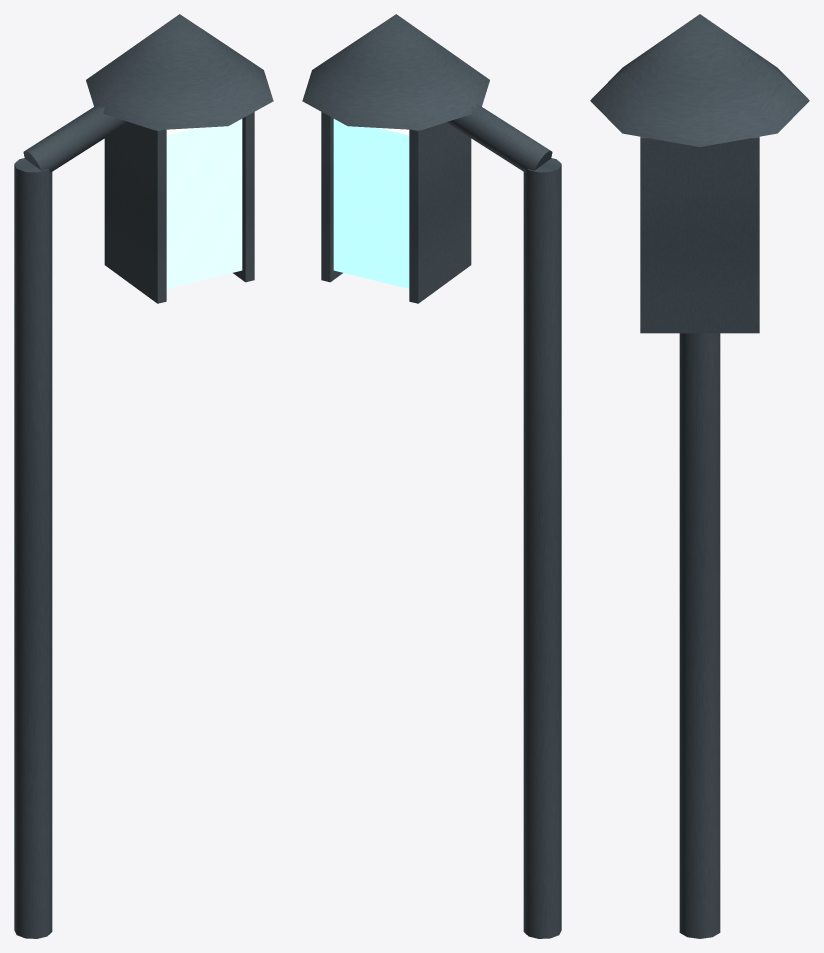
The model's file is lamp.glb.
3 renders of one model, left to right at view 1: azimuth 30°, elevation 25°; view 2: azimuth 150°, elevation 25°; view 3: azimuth 270°, elevation 25°, orthographic. The views are drawn at different scales.
Visible parts, largest first — view 1: lamp; view 2: lamp; view 3: lamp.
Part boxes in pixels (<box>): lamp: <box>14,14,273,938</box>; lamp: <box>302,14,561,938</box>; lamp: <box>590,14,809,938</box>.
Size of the model in its own units: 0.675 by 2.3 by 0.46.
2 materials, 2 textured.
